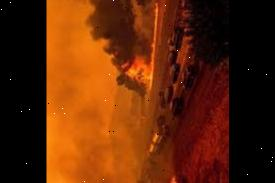fire: (120, 0, 164, 92)
